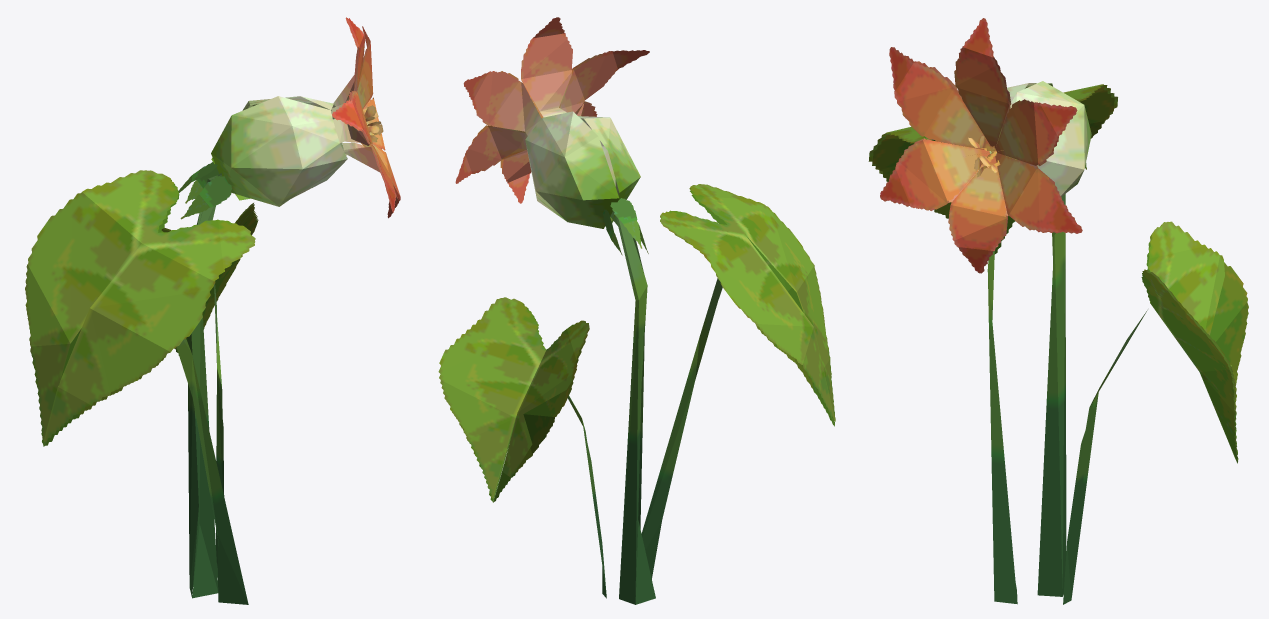
File: gi-Callas01.glb
The picture shows the model from 3 angles, left to right: view 1: azimuth 30°, elevation 25°; view 2: azimuth 150°, elevation 25°; view 3: azimuth 270°, elevation 25°; orthographic projection. The views are drawn at different scales.
Parts seen in each view (by area): view 1: gi-Callas01; view 2: gi-Callas01; view 3: gi-Callas01.
Boxes of the visible parts, x1=… form: gi-Callas01: x1=25, y1=17, x2=400, y2=604; gi-Callas01: x1=438, y1=17, x2=835, y2=604; gi-Callas01: x1=868, y1=18, x2=1248, y2=604.
Size of the model in its own units: 0.5252 by 0.7842 by 0.4329.
1 material, 1 textured.
